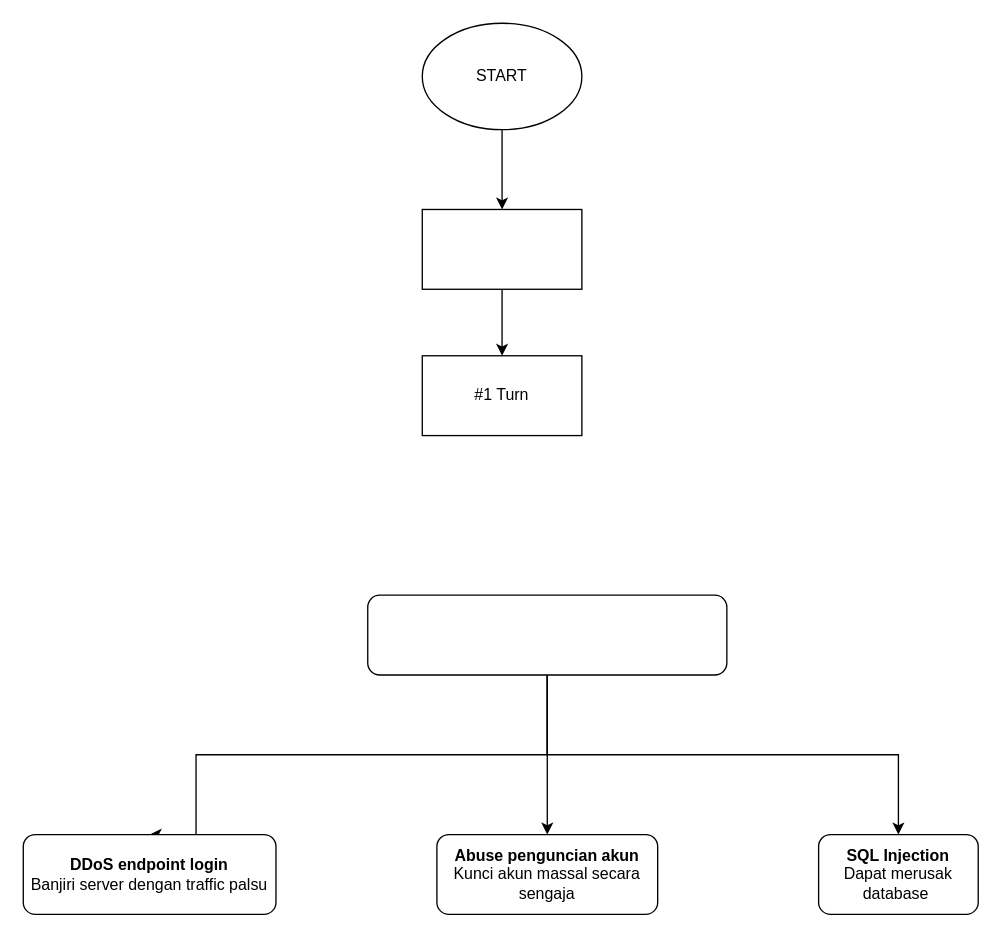
Some shapes in this 1001 by 938 pixel diagram are drawn without their labels. Here are the shapes that lost their labels. From the top down, the centre of each, then its label:
At (x=501, y=248): "Compare SPD to determine turn".
At (x=546, y=634): "Layanan Student Portal terganggu".
